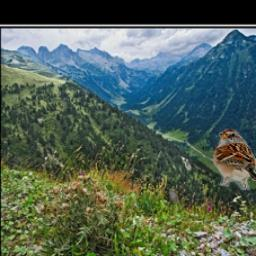Sparrow: (213, 129, 256, 190)
